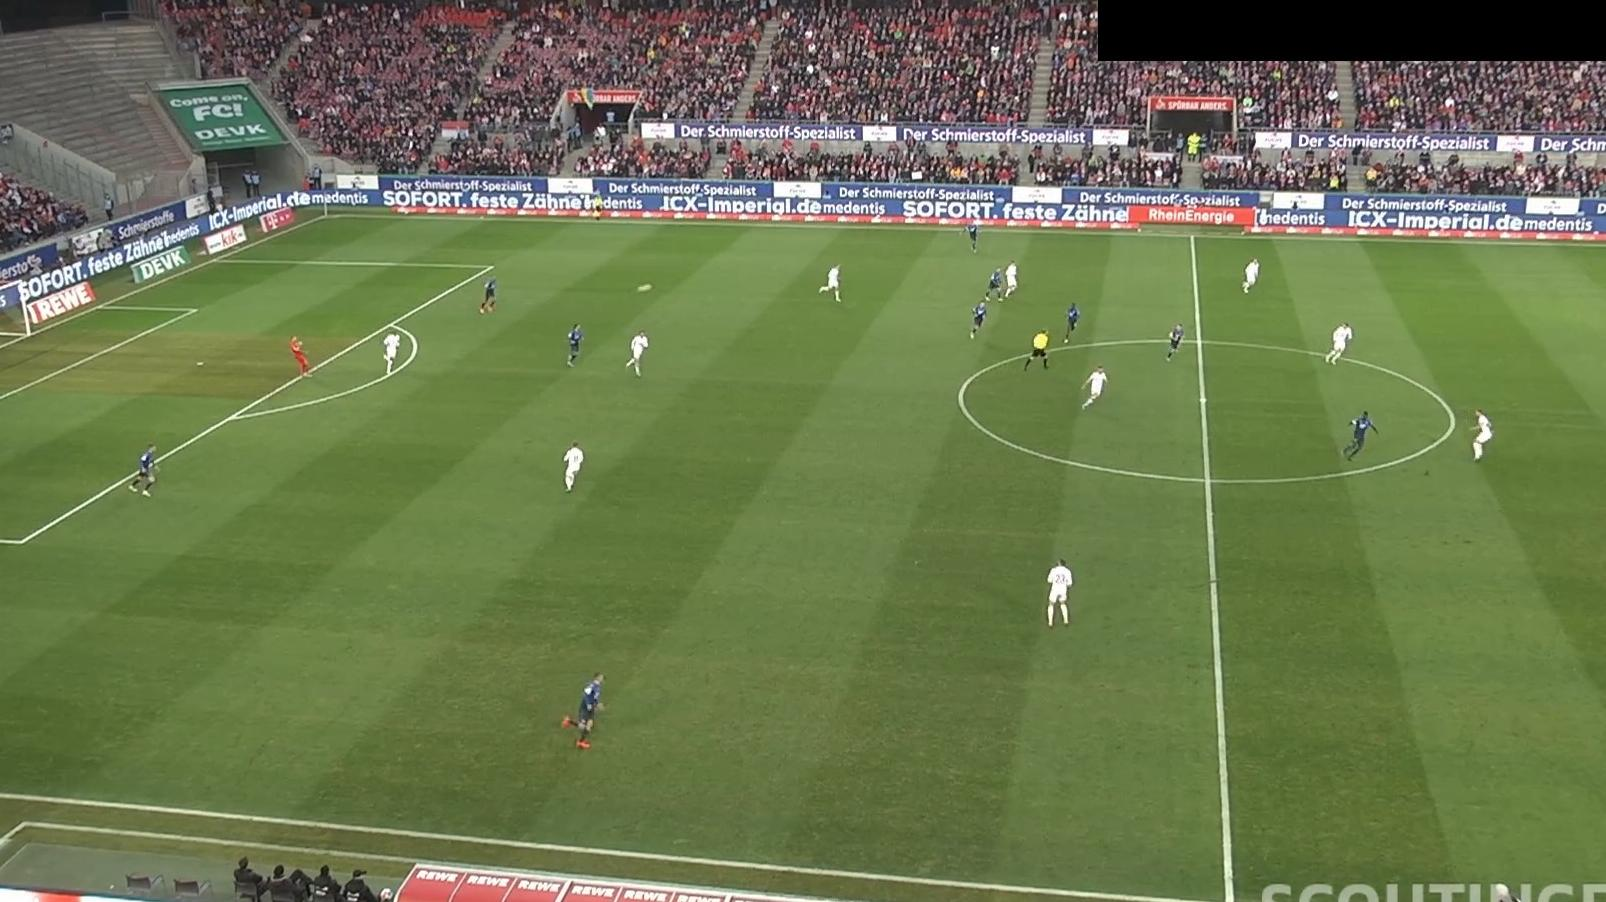ball: (635, 281, 654, 296)
